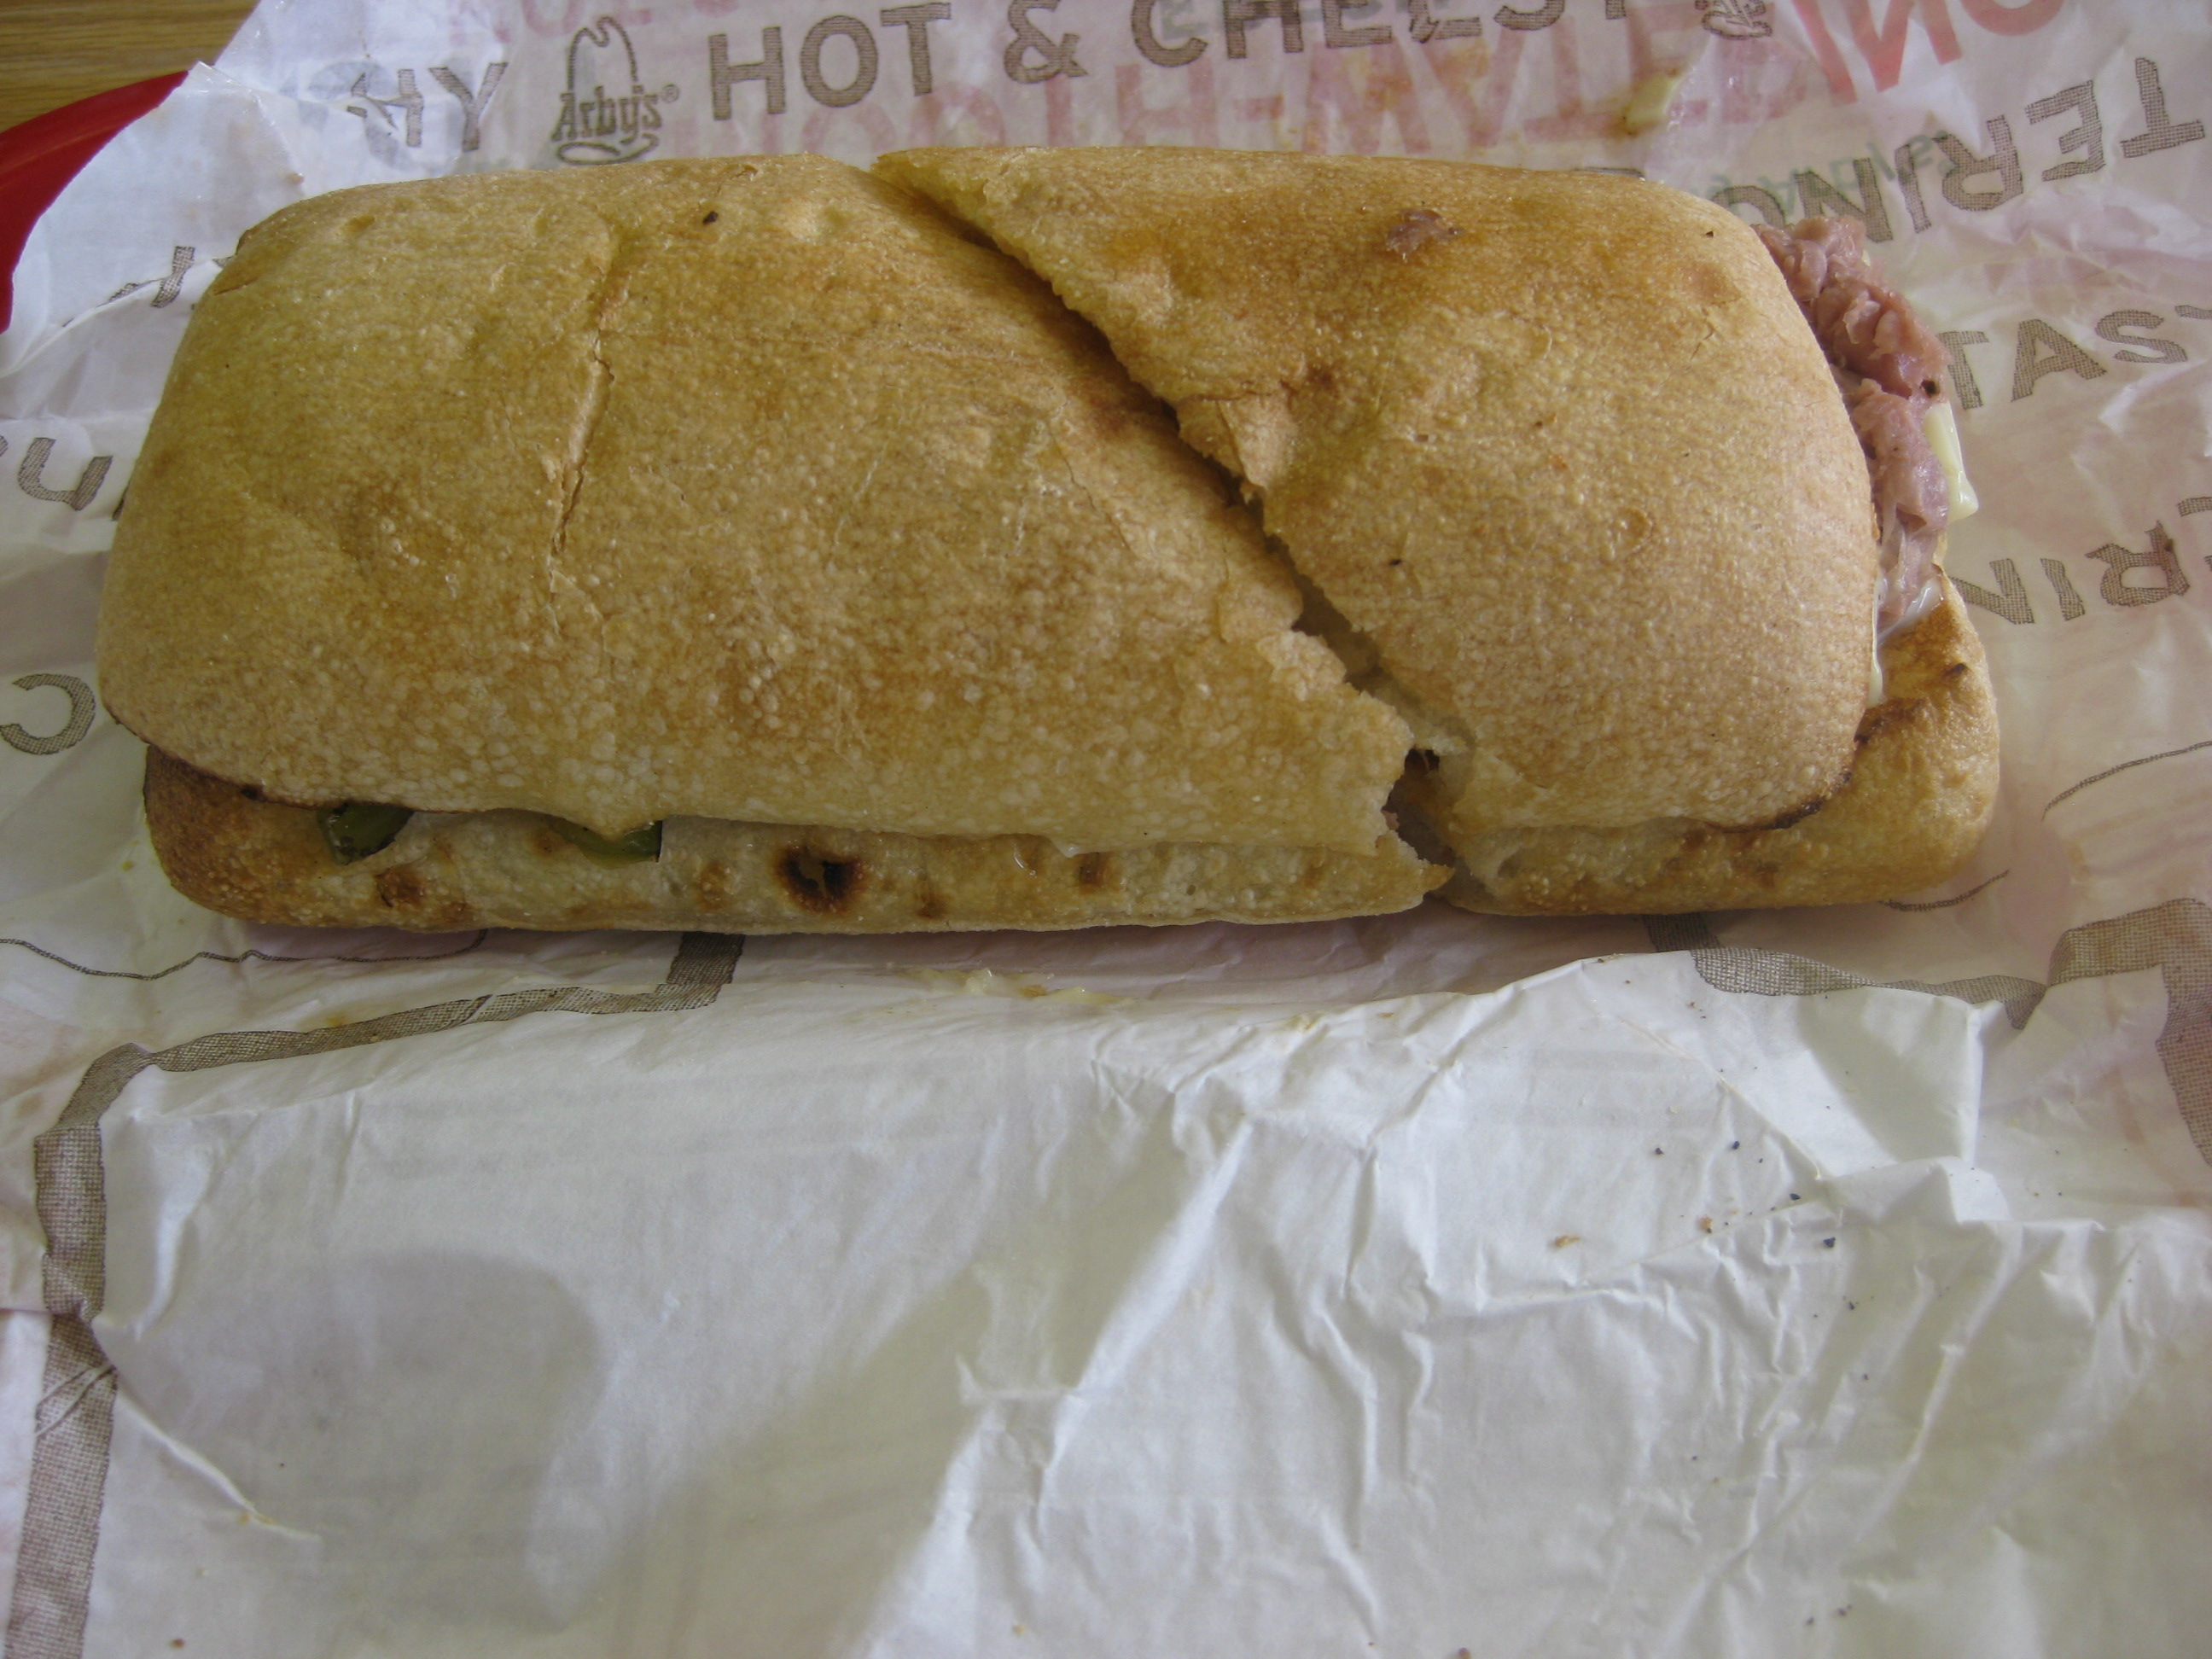sub: (125, 131, 2093, 1004)
